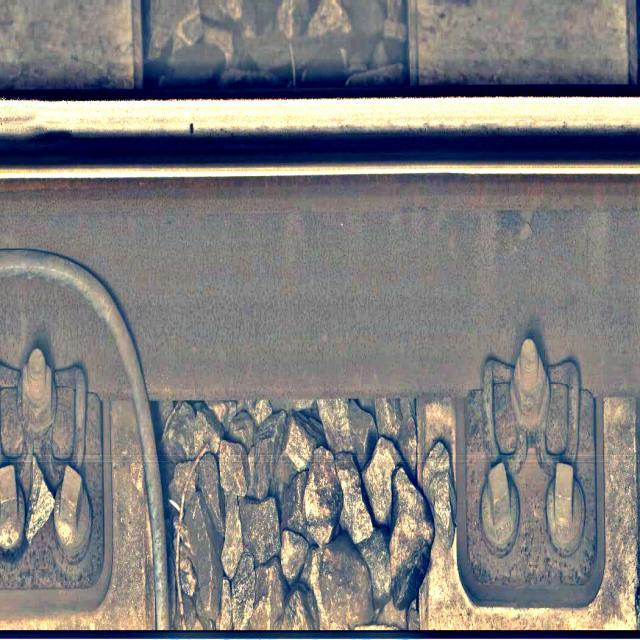Good Fasteners: (461, 338, 596, 607)
